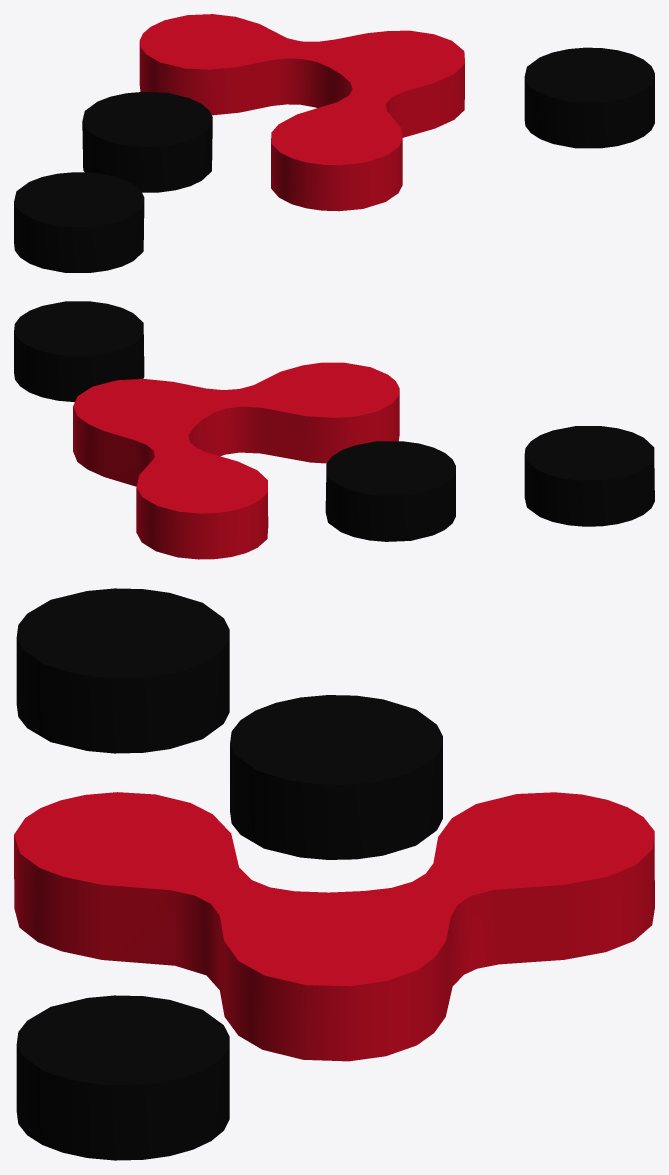
File: IconReactRouter.glb
The picture shows the model from 3 angles, top to bottom: view 1: azimuth 30°, elevation 25°; view 2: azimuth 150°, elevation 25°; view 3: azimuth 270°, elevation 25°; orthographic projection. The views are drawn at different scales.
Parts seen in each view (by area): view 1: IconReactRouter; view 2: IconReactRouter; view 3: IconReactRouter.
Boxes of the visible parts, x1,y1,x2,y2 form: IconReactRouter: (14, 14, 654, 272); IconReactRouter: (14, 301, 654, 559); IconReactRouter: (14, 588, 654, 1160).
Bounding box in the file's own units: 2.14 × 0.1508 × 1.17.
